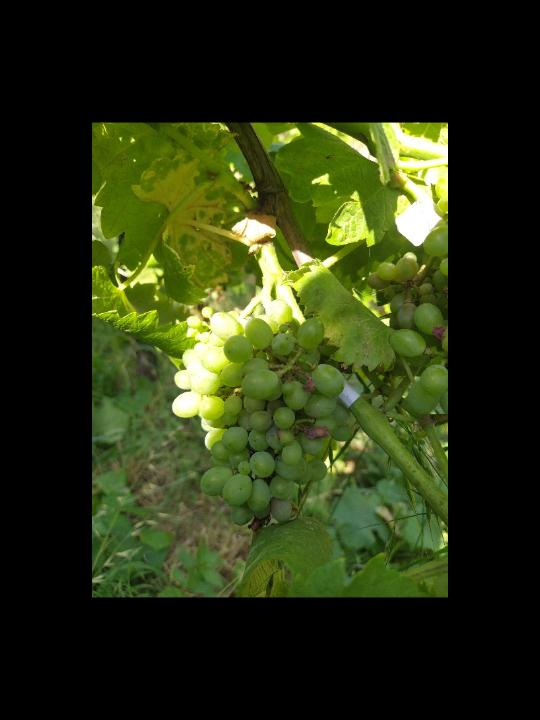grape: (170, 299, 346, 526)
